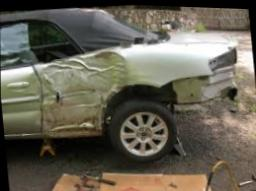Bumper: (160, 65, 240, 114)
Fender: (34, 45, 133, 139)
Light: (207, 45, 238, 70)
